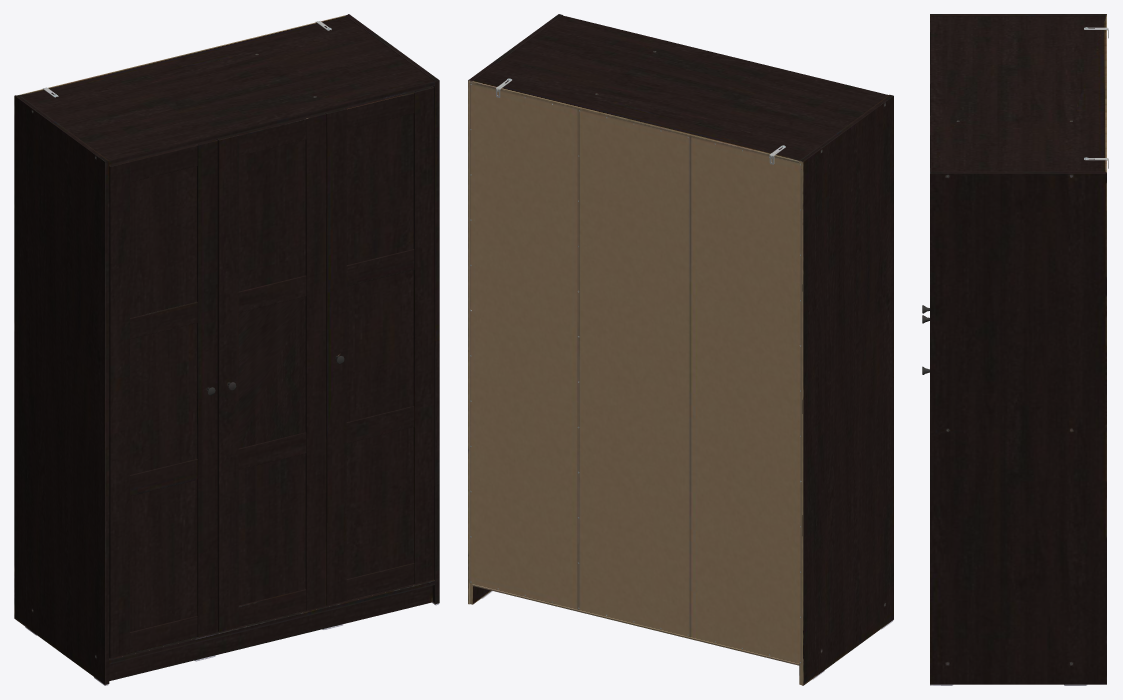
Rendered from rakkestad_szafa_3_drzwi_70453762.glb.
The picture shows the model from 3 angles, left to right: view 1: azimuth 30°, elevation 25°; view 2: azimuth 150°, elevation 25°; view 3: azimuth 270°, elevation 25°; orthographic projection. The views are drawn at different scales.
Parts seen in each view (by area): view 1: rakkestad_szafa_3_drzwi_70453762; view 2: rakkestad_szafa_3_drzwi_70453762; view 3: rakkestad_szafa_3_drzwi_70453762.
Boxes of the visible parts, box(x1,y1,x2,y2) form: rakkestad_szafa_3_drzwi_70453762: box(14, 14, 439, 685); rakkestad_szafa_3_drzwi_70453762: box(468, 14, 893, 685); rakkestad_szafa_3_drzwi_70453762: box(922, 14, 1108, 685).
Bounding box in the file's own units: 1.17 × 1.76 × 0.5784.
Materials: 1 (1 with a texture image).
